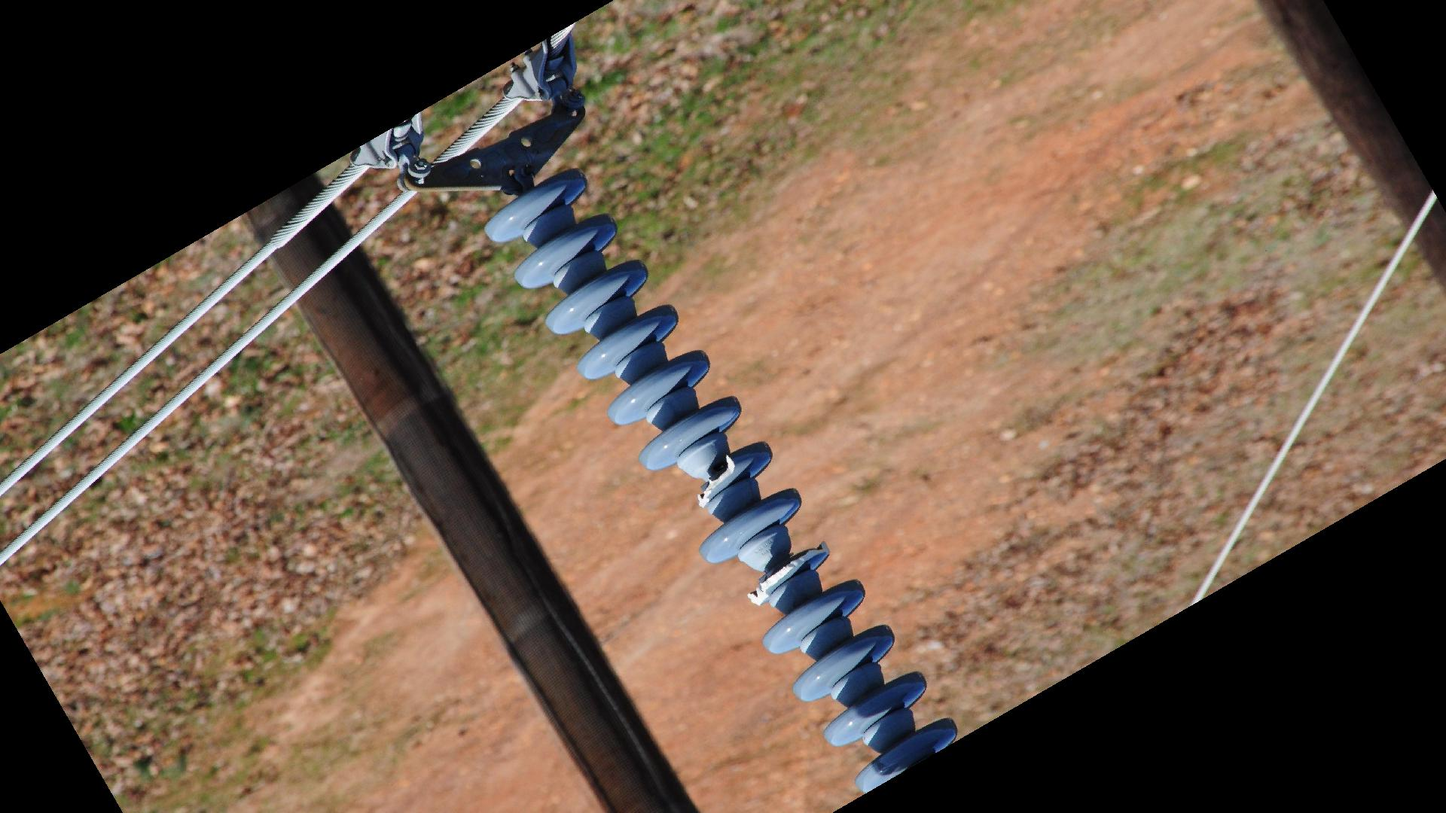insulator: (478, 165, 963, 796)
insulator_breakage: (745, 538, 832, 608), (694, 450, 738, 512)
